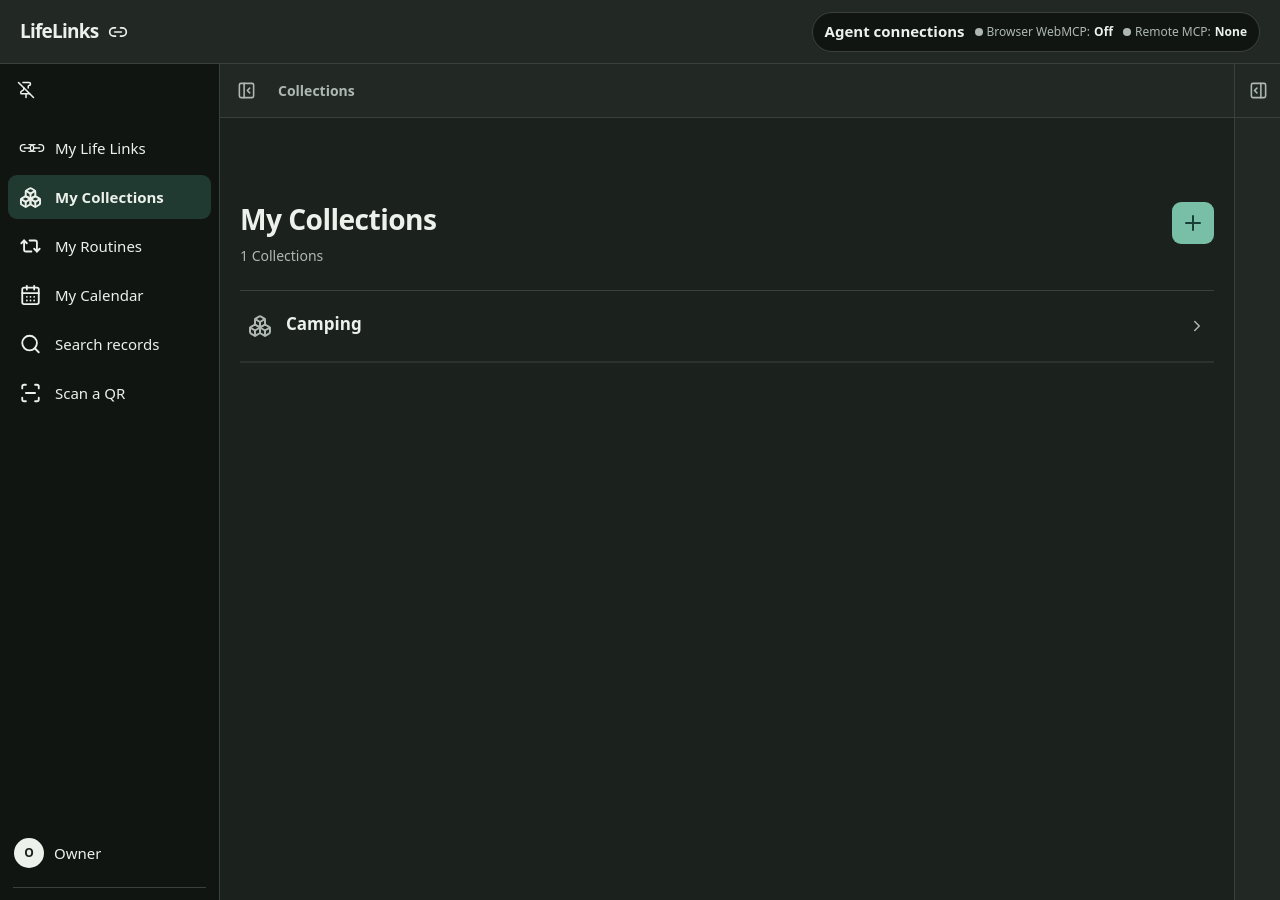
Test: Collection owner workspace › Collection root has selection/Delete but never a Move Collections action
What coordinates should you click on to do the following:
click the button named "Add to My Collections"
I would click on:
 (1193, 223)
Its box is [1172,202,1214,244].
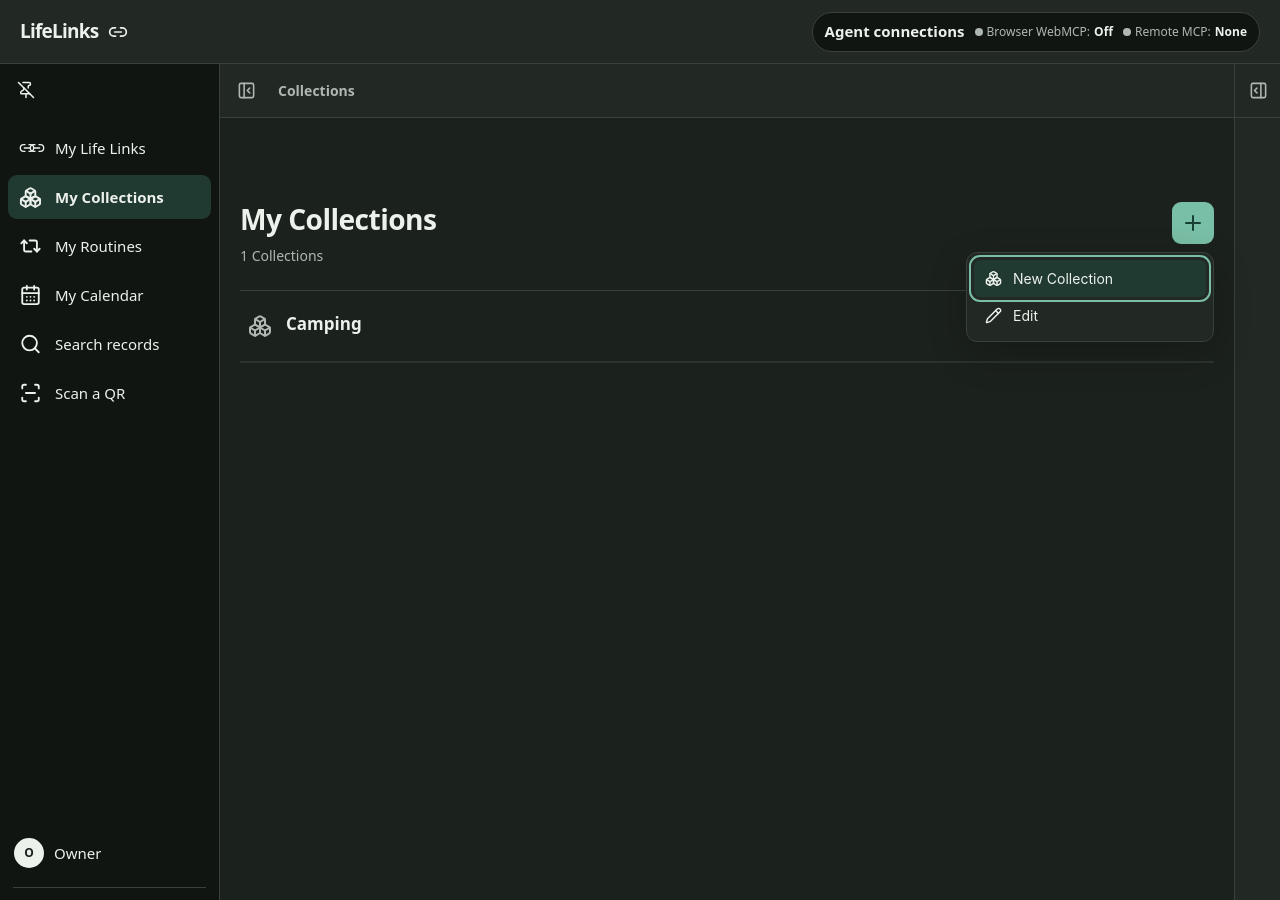
Expected: the menu item "Edit" is shown
What coordinates should you click on to do the following:
click the menu item "Edit"
I would click on:
 (1090, 316)
Its box is [974,297,1206,334].
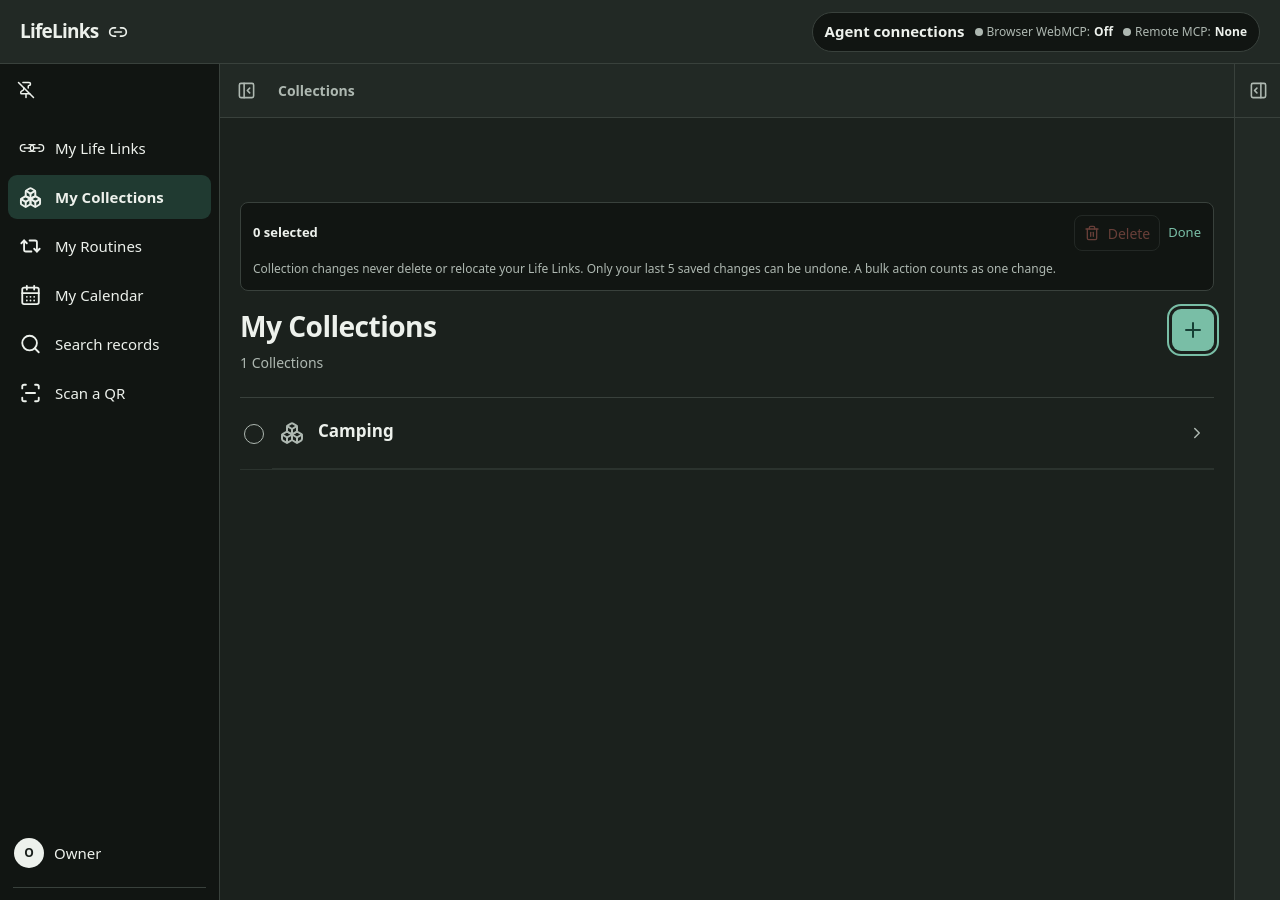
What coordinates should you click on to do the following:
click the checkbox named "Select Camping"
I would click on:
 (254, 434)
Its box is [244,424,264,444].
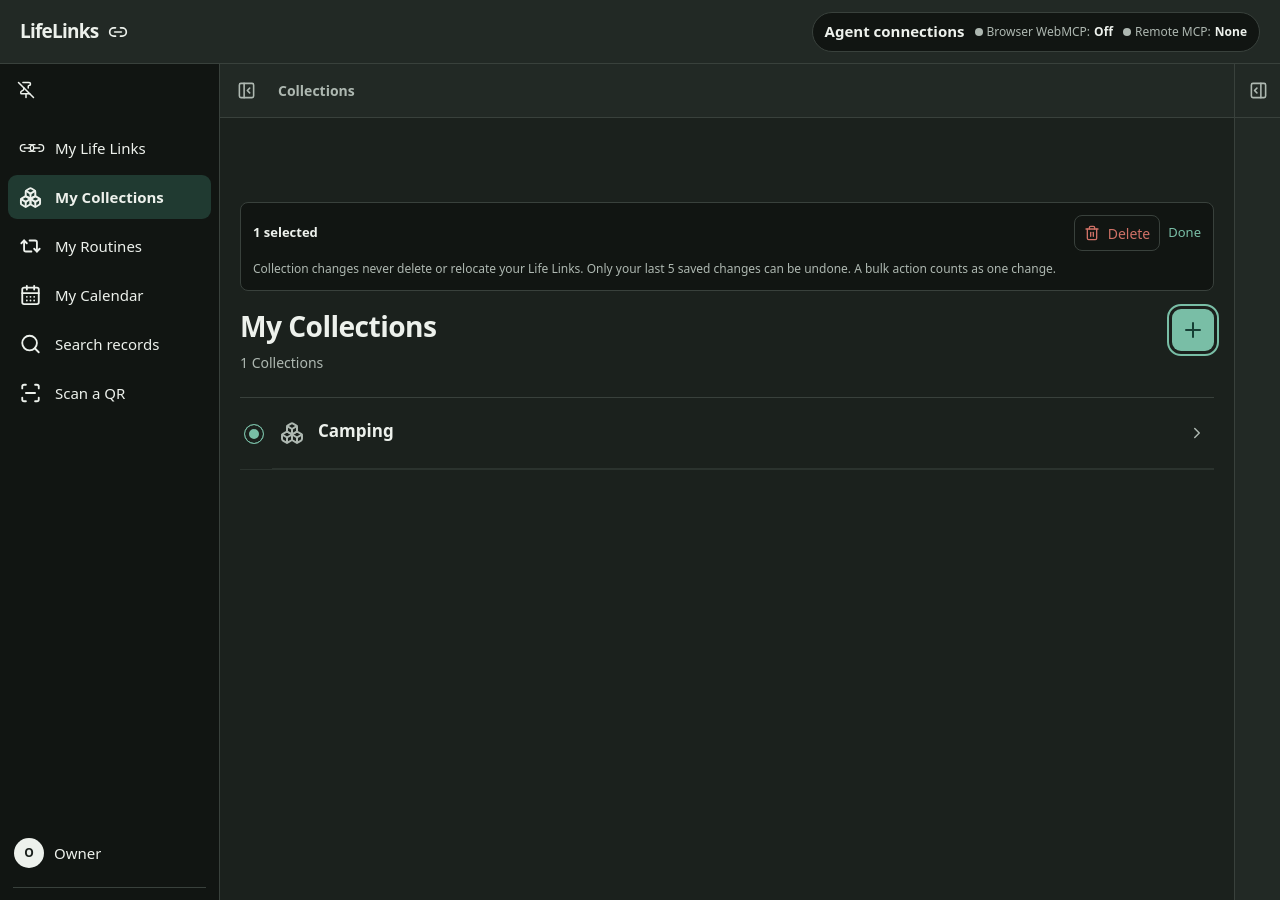
Expected: the button "Delete" is enabled, [1074,215,1160,251]
